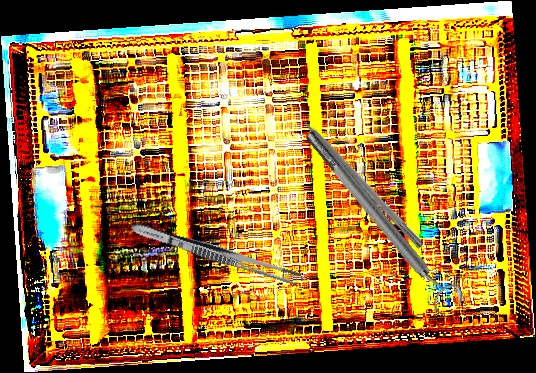Dressing Forceps: (128, 219, 303, 287)
Fixation Ring: (297, 120, 468, 320)
Pusher: (284, 99, 427, 250)
